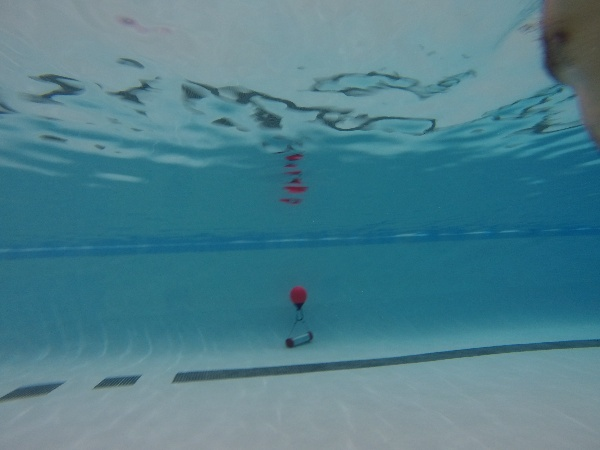buoy_red: (287, 284, 308, 313)
